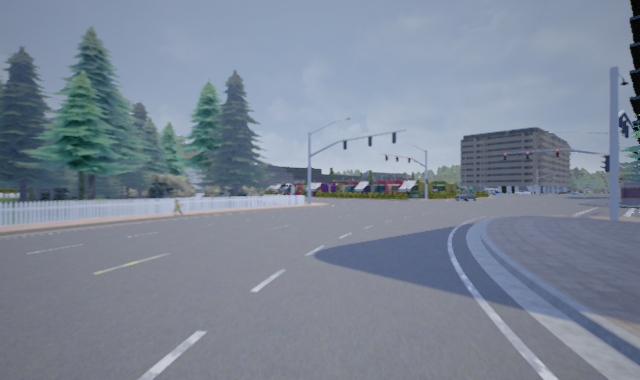pedestrian: (171, 194, 182, 216)
traffic_light: (554, 147, 560, 158), (502, 152, 508, 162), (525, 150, 531, 160)
vehicle: (455, 189, 477, 202)
